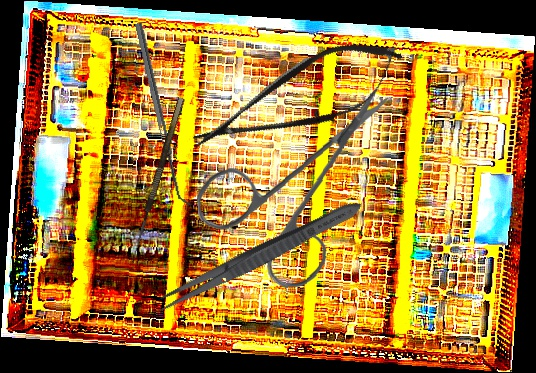Dressing Forceps: (148, 193, 367, 321)
Hook Surgical: (128, 97, 194, 266)
Iris Scissors: (192, 88, 398, 292)
Micro Scissor: (181, 22, 415, 175)
Spatula Surgical: (134, 20, 192, 209)
